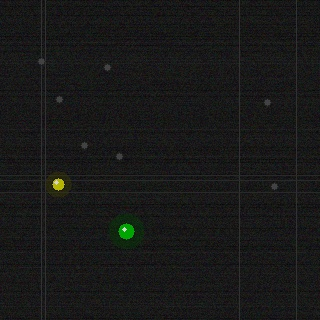green_normal: (116, 221, 136, 241)
yellow_warning: (50, 176, 66, 192)
